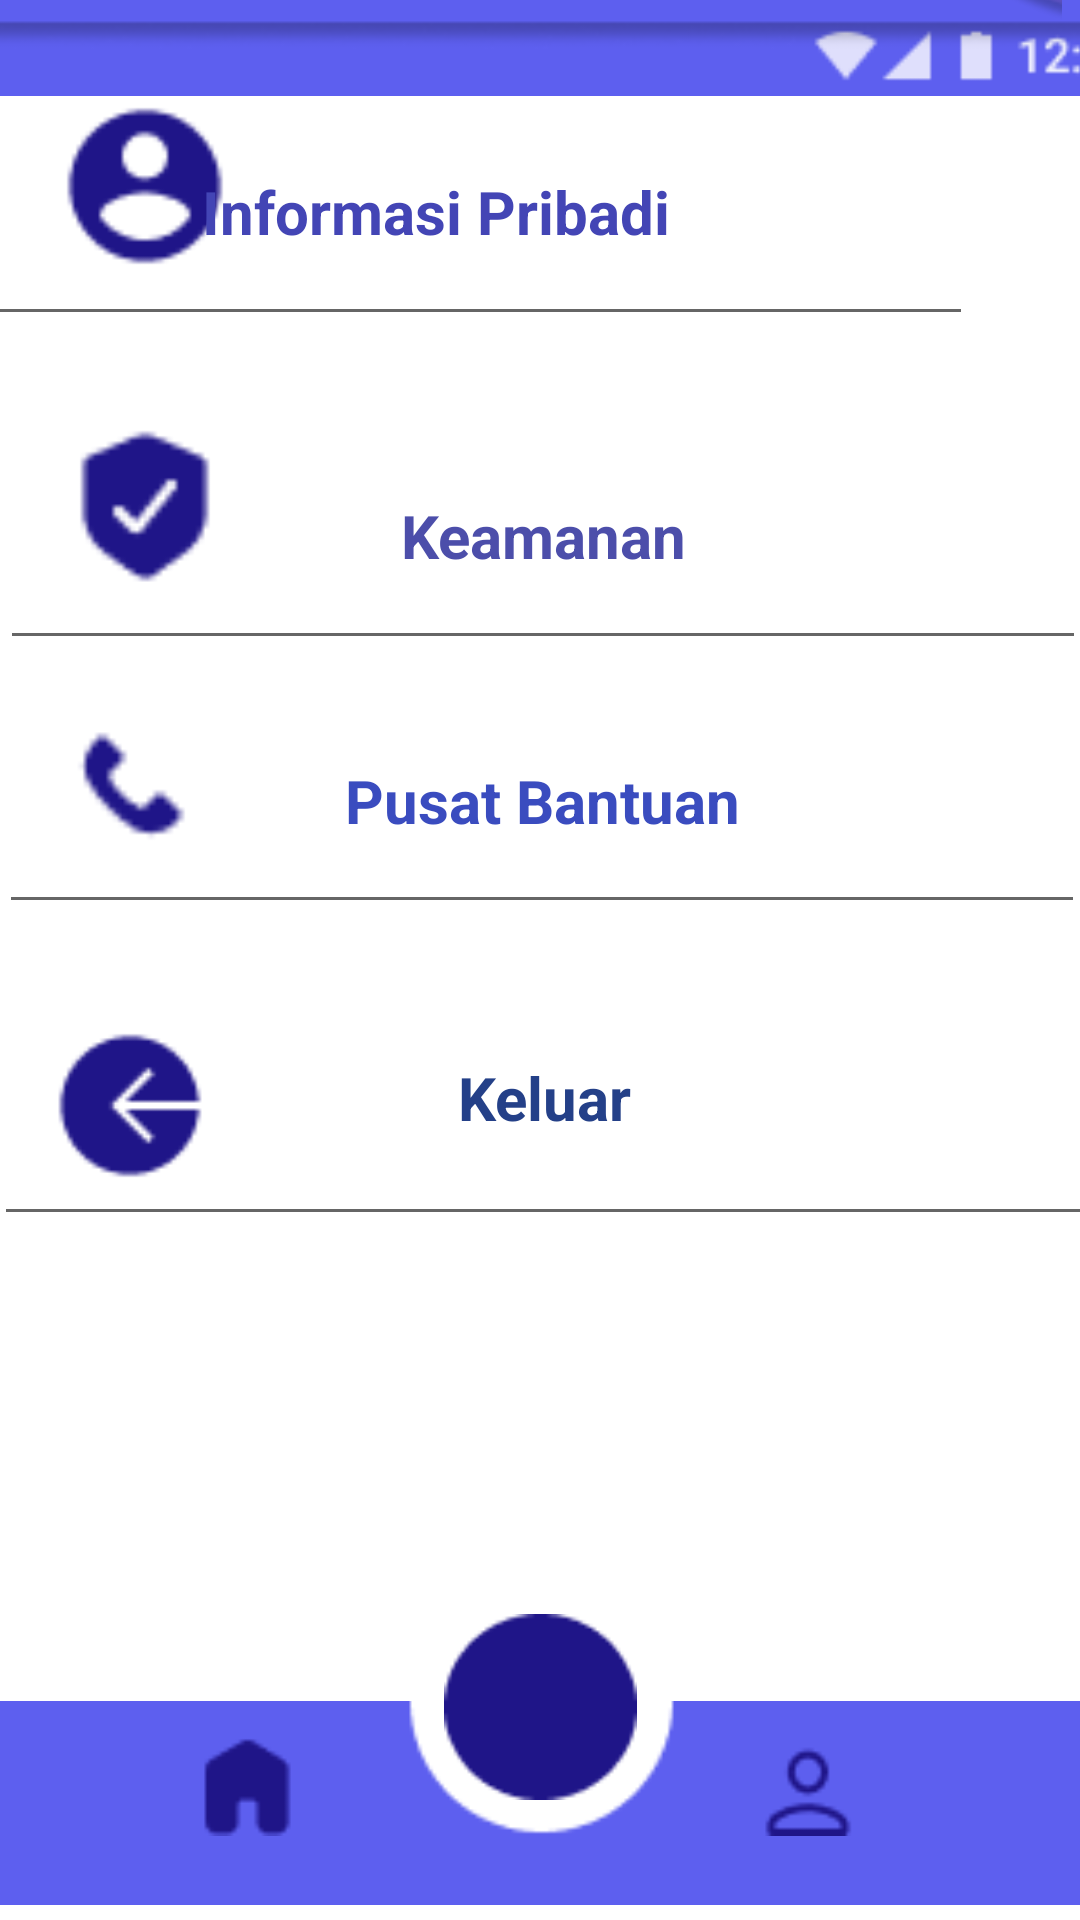

Icon bounding boxes for this 1080×1920 phone screenshot, format (x1, y1, x2, y2):
gambarorg: (67, 108, 250, 264)
kluar: (58, 1034, 201, 1177)
orangbawah: (766, 1750, 850, 1836)
rumahhh: (204, 1739, 290, 1836)
telepon: (82, 733, 184, 836)
